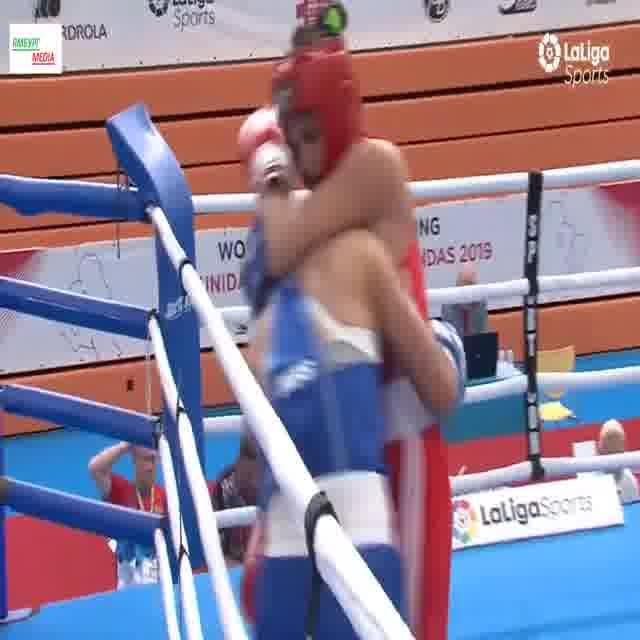blue-player: (236, 221, 468, 640)
red-player: (236, 46, 456, 640)
